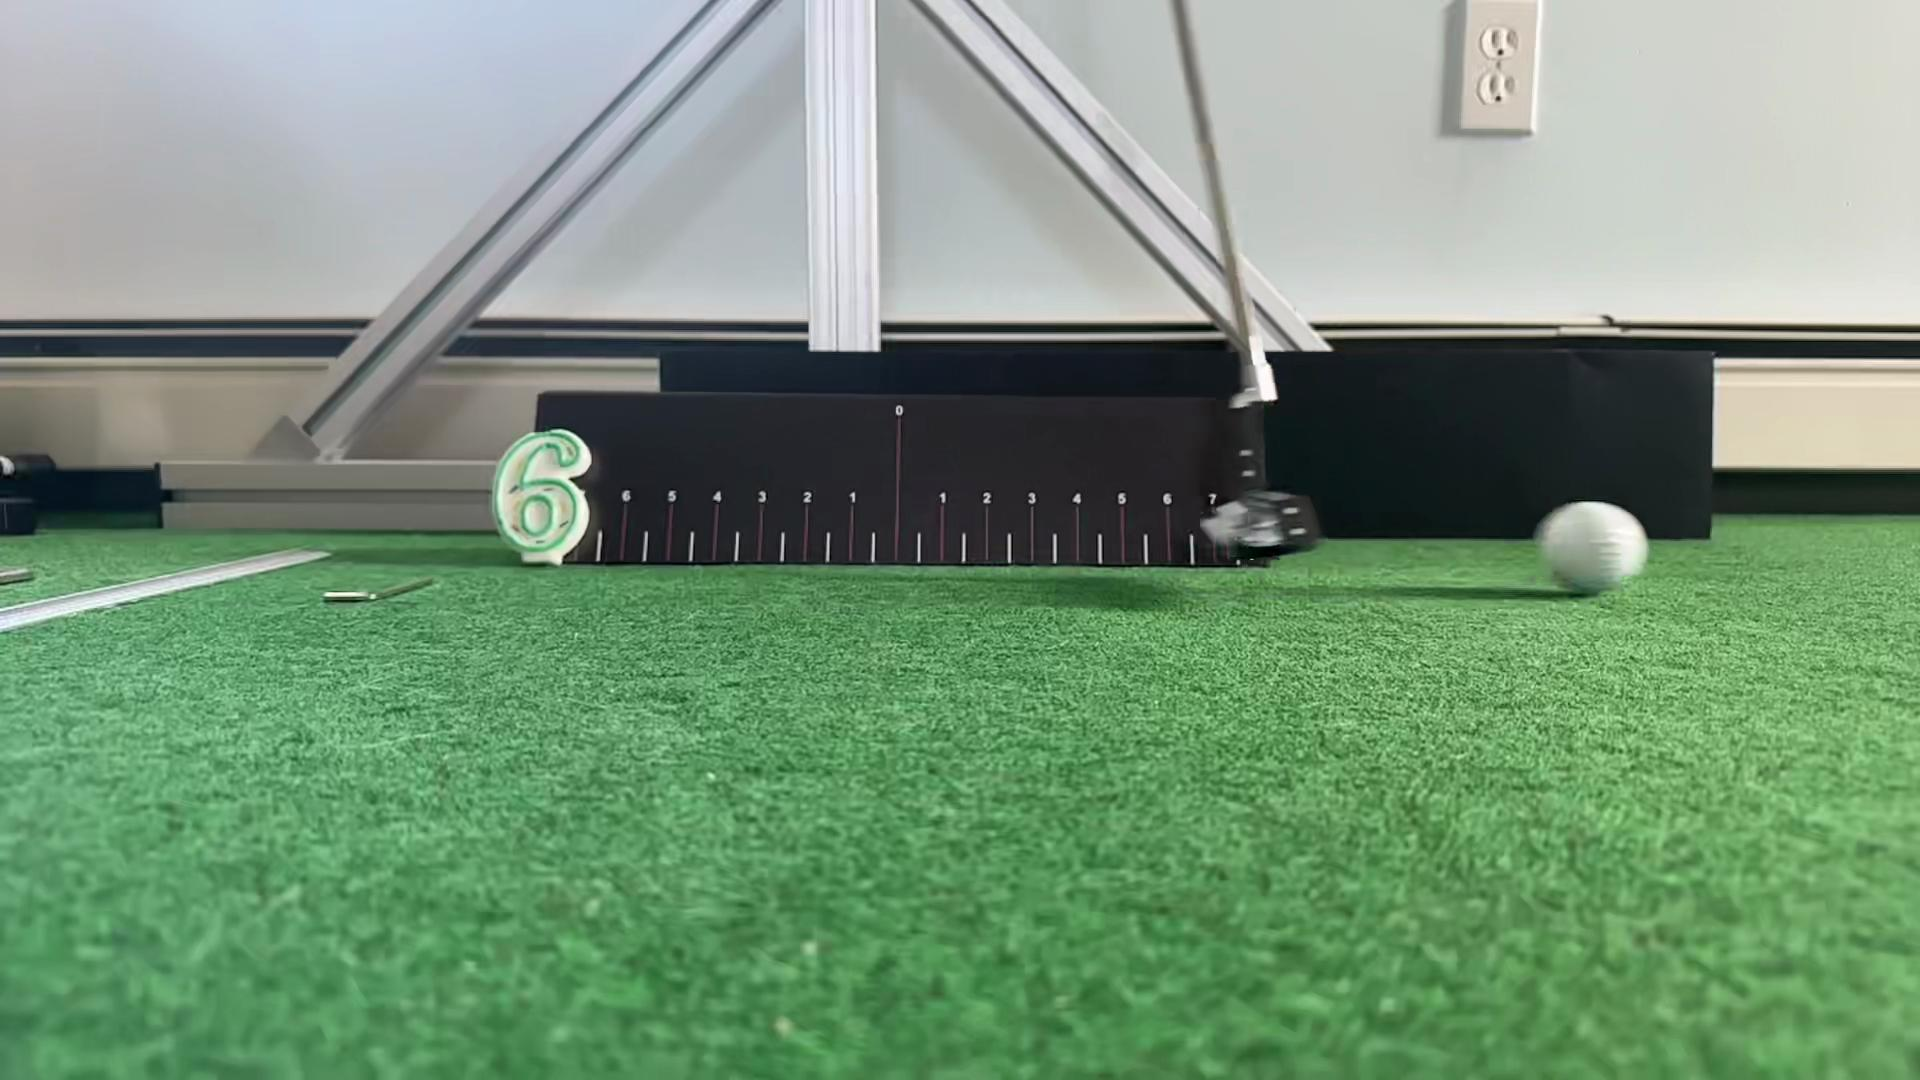golfball: (1540, 502, 1647, 593)
